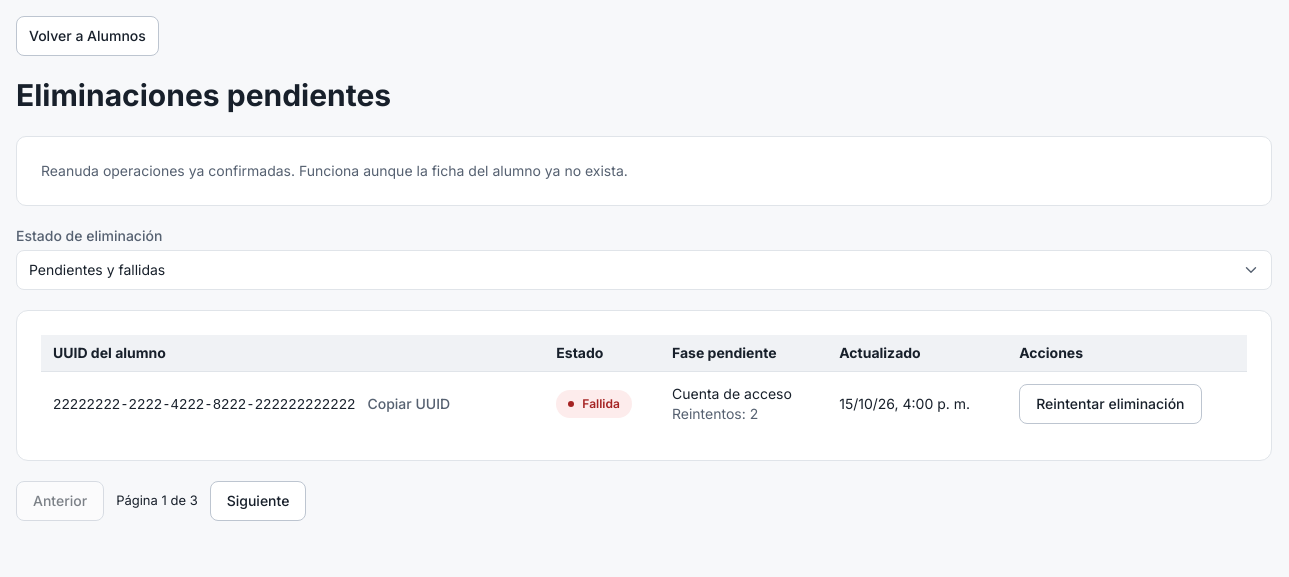
eliminaciones sin perfil › UNCONFIRMED refresca la consulta sin reenvío automático
Click the button "Reintentar eliminación". click: (1110, 404)
box: top-left (1019, 384), bottom-right (1202, 424)
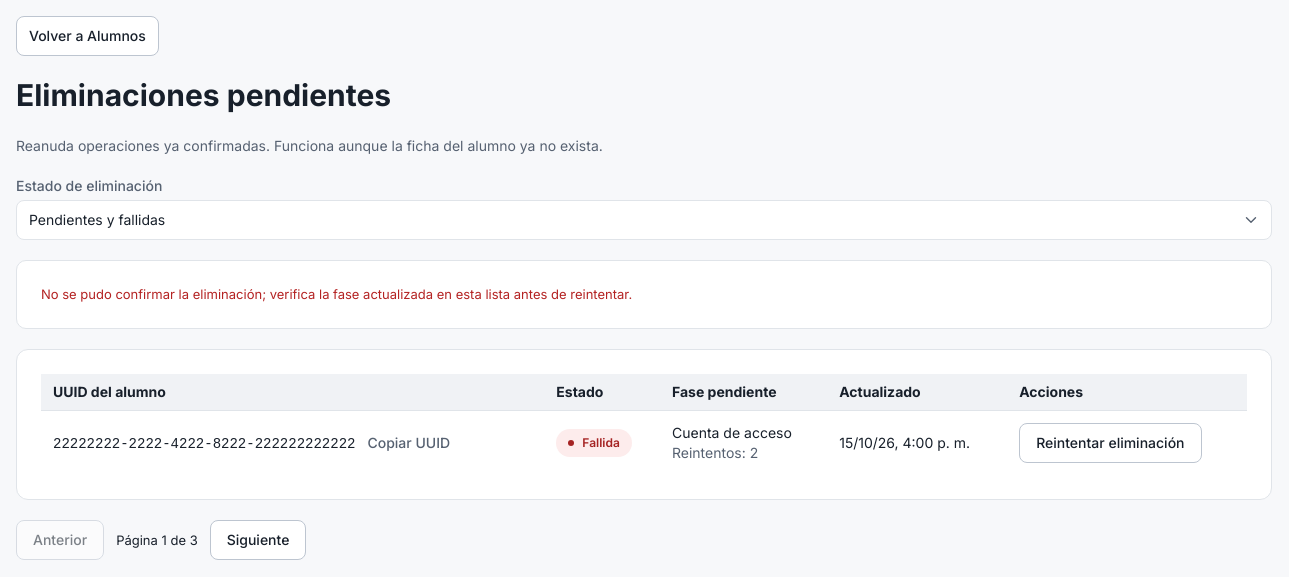
Now the message is shown, box top-left (16, 260), bottom-right (1272, 330)
Now the message shows "en esta lista", box top-left (41, 286), bottom-right (632, 302)
